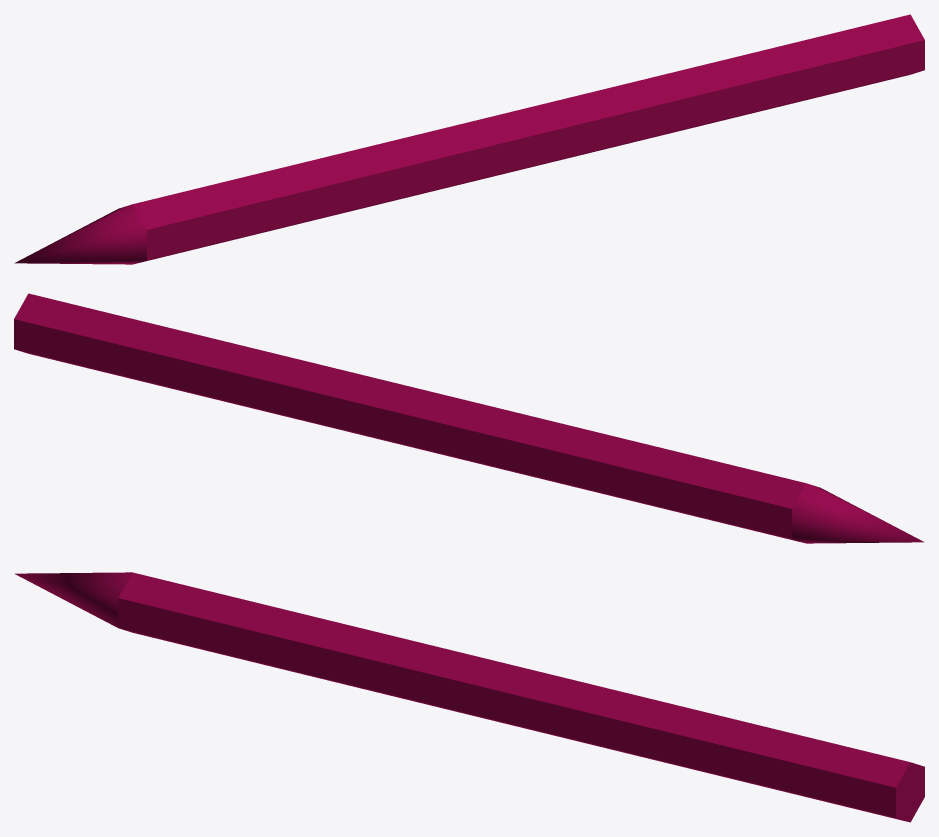
The model's file is Pen_07.fbx.
The picture shows the model from 3 angles, top to bottom: view 1: azimuth 30°, elevation 25°; view 2: azimuth 150°, elevation 25°; view 3: azimuth 330°, elevation 25°; orthographic projection.
Visible parts, largest first — view 1: Pen_07; view 2: Pen_07; view 3: Pen_07.
Boxes of the visible parts, box(x1,y1,x2,y2) form: Pen_07: box(14, 14, 924, 264); Pen_07: box(14, 293, 924, 543); Pen_07: box(14, 572, 924, 822).
Bounding box in the file's own units: 91.43 × 5.88 × 5.09.
